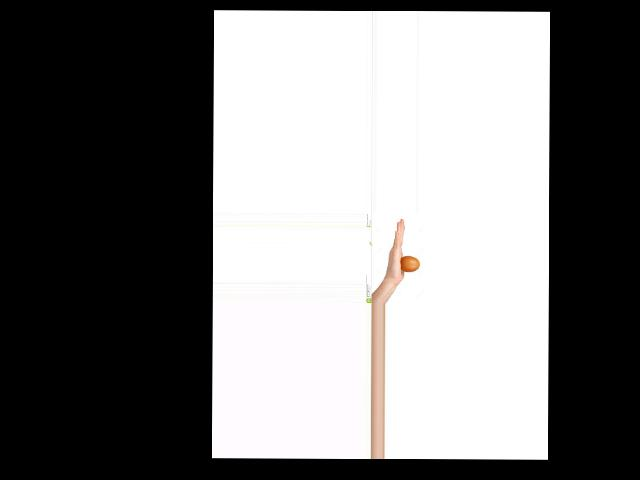egg: (399, 255, 419, 271)
